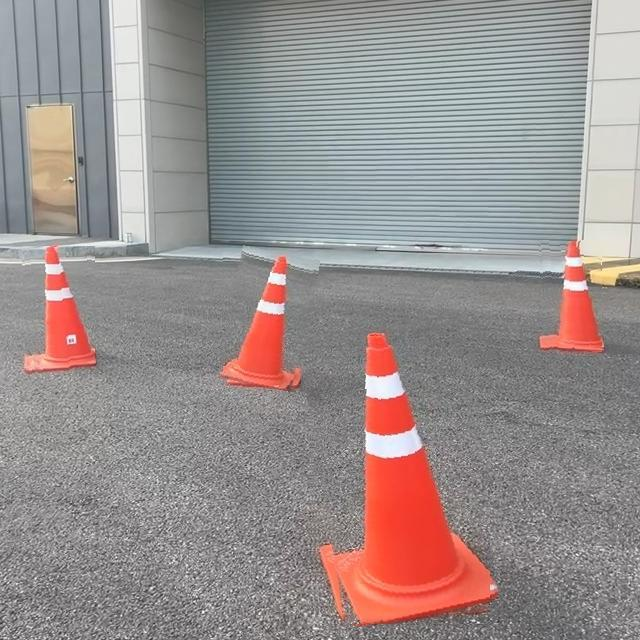fallen_object: (307, 310, 494, 625), (487, 210, 640, 440), (192, 235, 306, 410), (15, 219, 116, 404)
